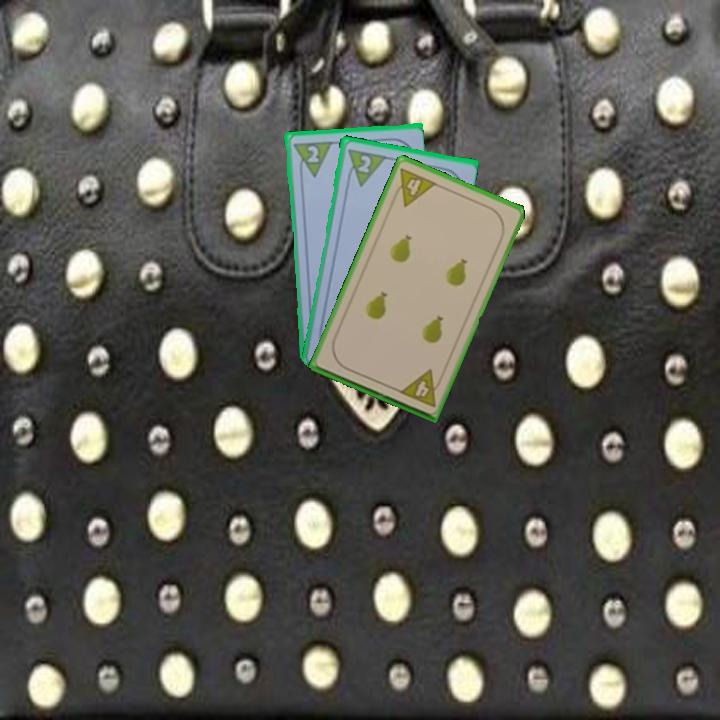2p: (354, 151, 374, 176), (304, 142, 322, 165)
4p: (388, 164, 439, 209), (395, 366, 446, 410)
